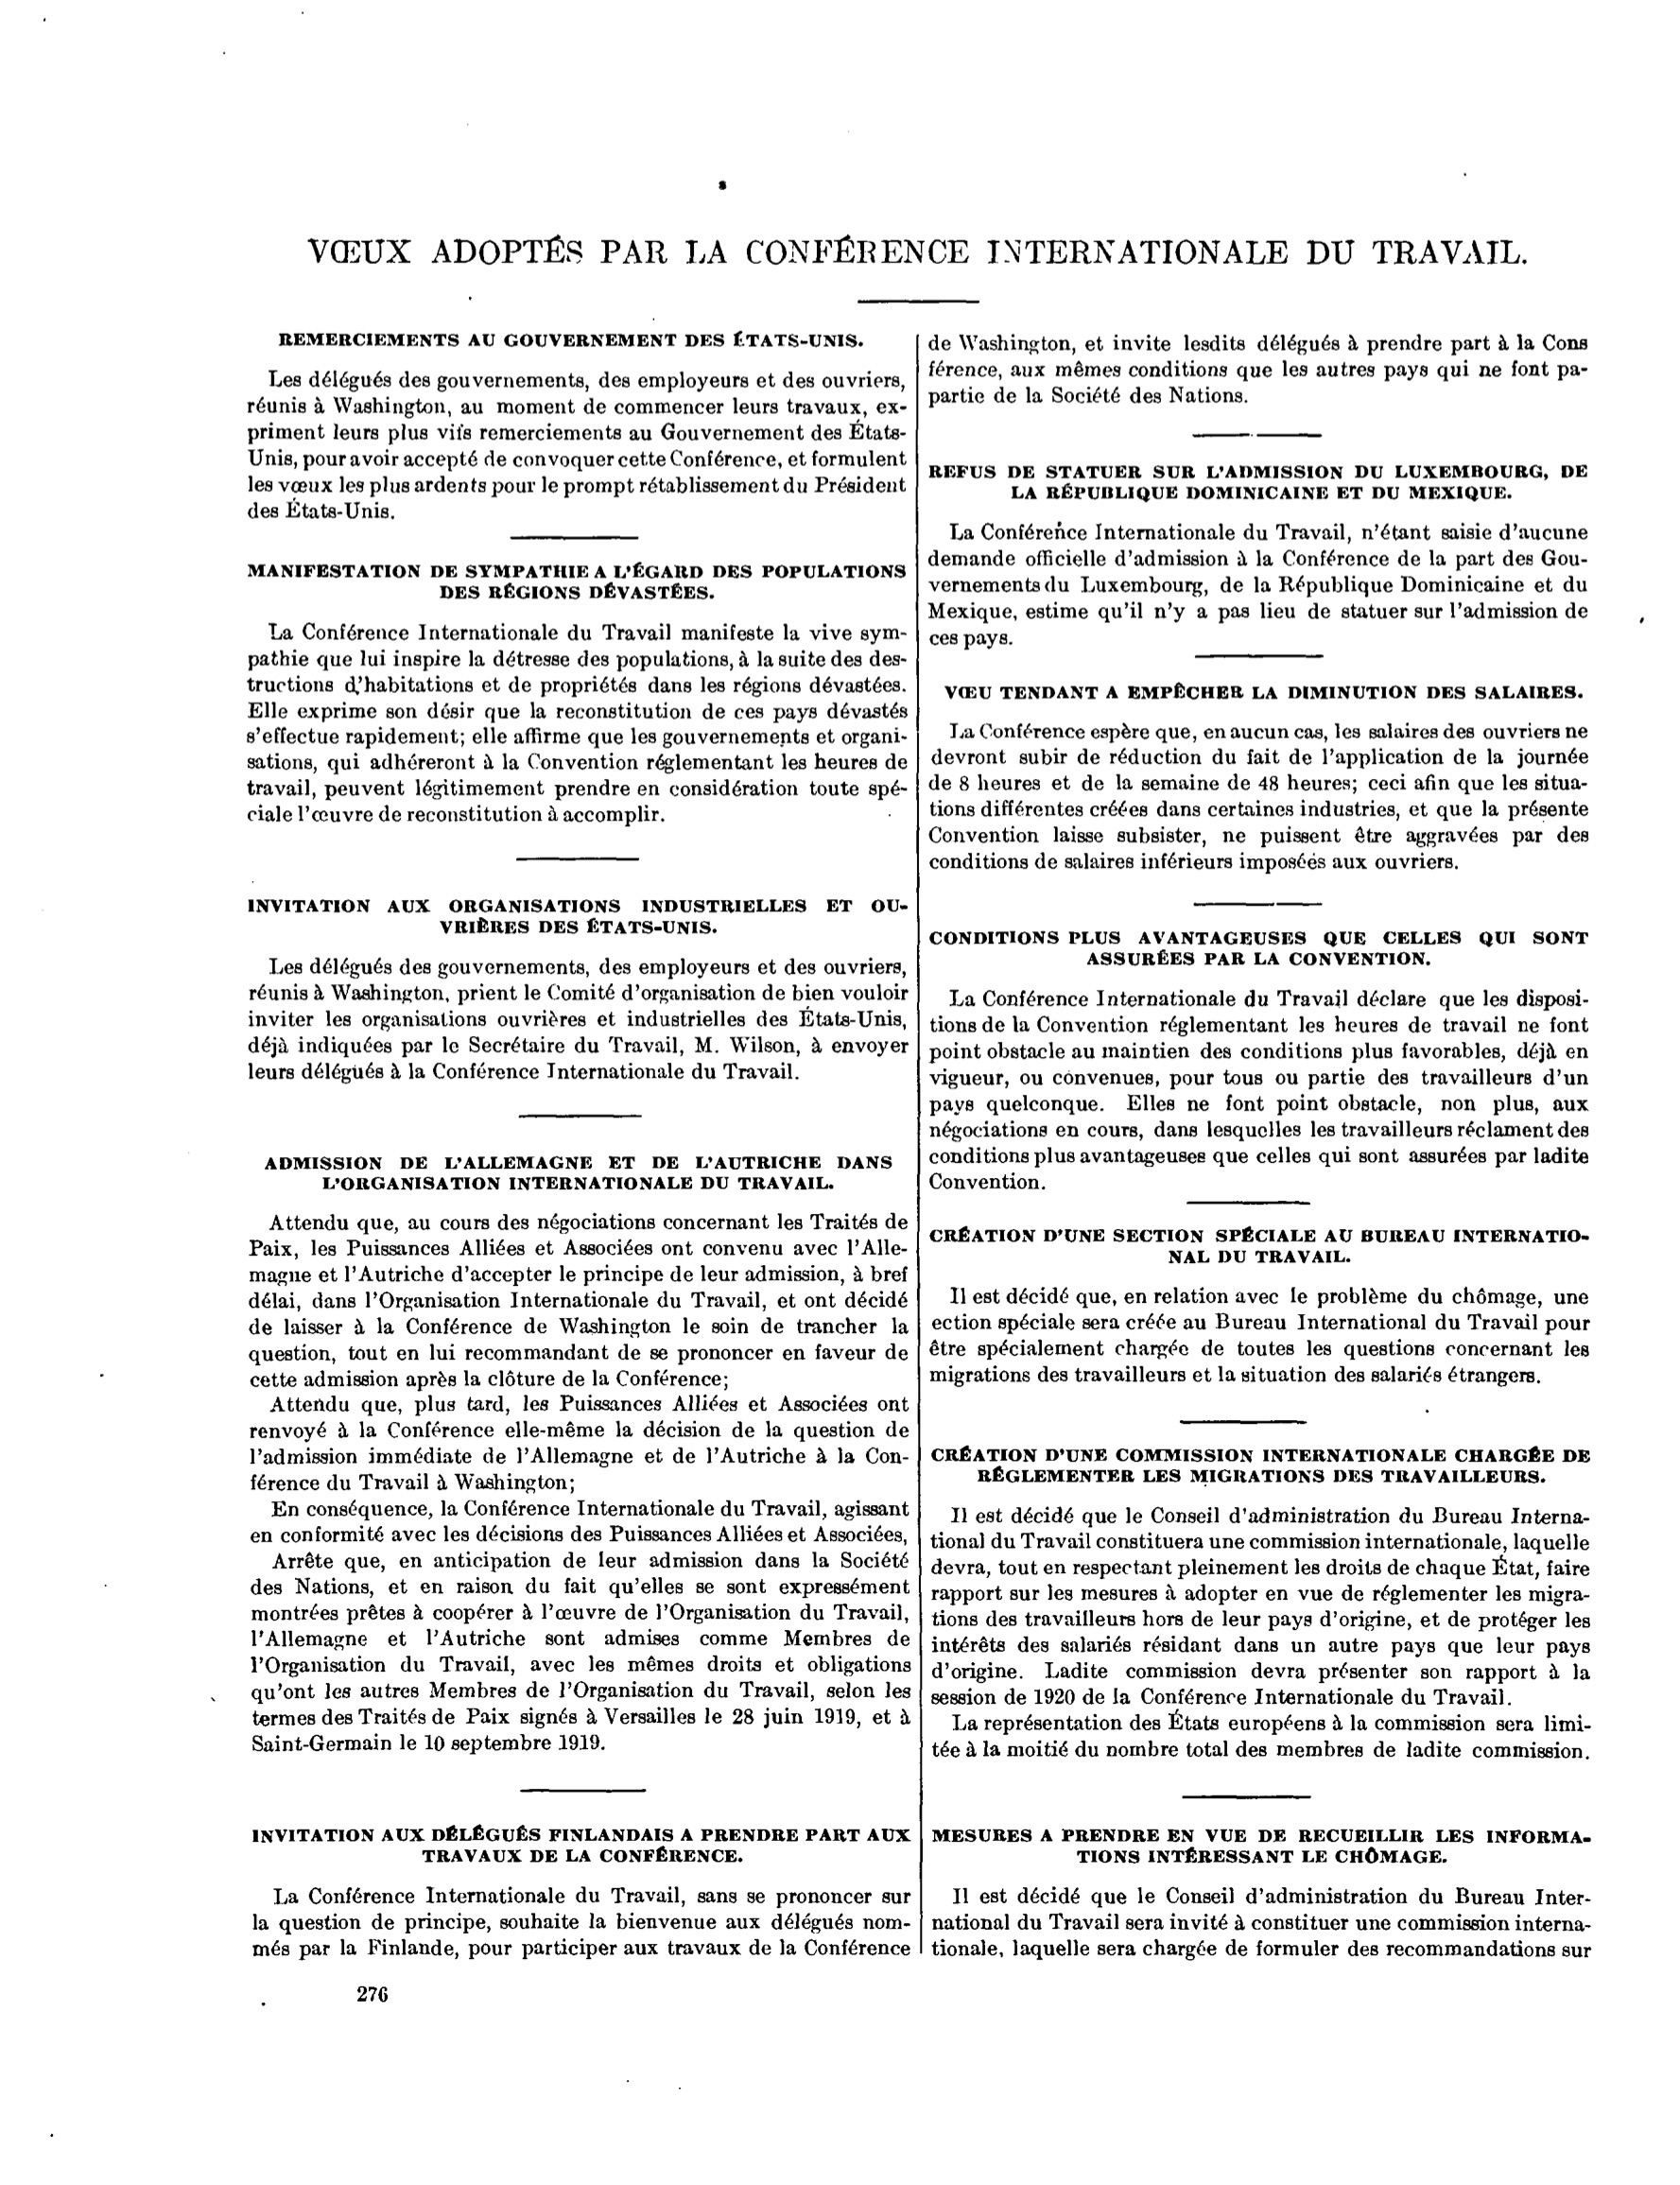MainZone-Continued: (922, 329, 1592, 414)
MainZone-Head: (288, 226, 1532, 279), (927, 1817, 1597, 1874), (245, 1817, 906, 1874), (924, 1218, 1593, 1273), (240, 888, 910, 942), (241, 555, 909, 607), (928, 921, 1593, 973), (251, 1145, 900, 1198), (926, 456, 1596, 507), (930, 1438, 1597, 1489), (923, 676, 1577, 708), (270, 321, 870, 355)
MainZone-P: (241, 1534, 915, 1760), (240, 616, 909, 832), (926, 983, 1593, 1199), (927, 1500, 1595, 1708), (242, 1208, 911, 1393), (925, 718, 1591, 881), (240, 366, 910, 529), (240, 951, 911, 1090), (925, 519, 1592, 653), (927, 1281, 1596, 1393), (242, 1390, 911, 1495), (245, 1881, 912, 1971), (926, 1882, 1599, 1968), (927, 1709, 1595, 1770), (241, 1495, 909, 1547)
TitlePageZone: (352, 1979, 395, 2012)
